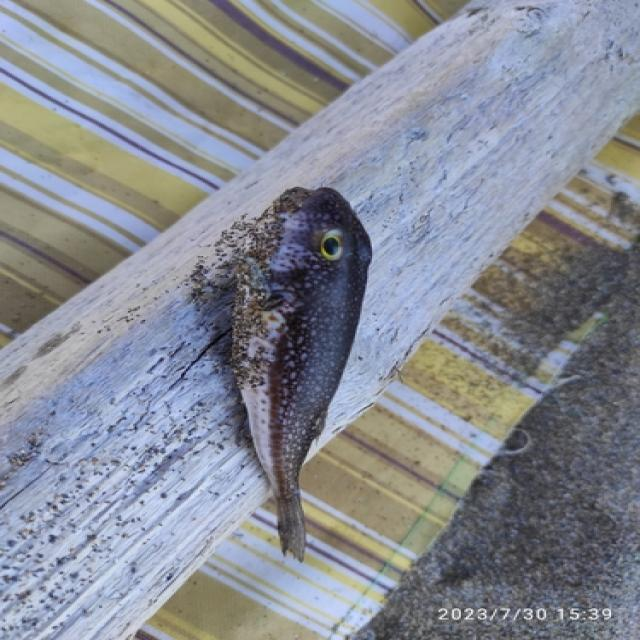Balik: (233, 189, 372, 560)
